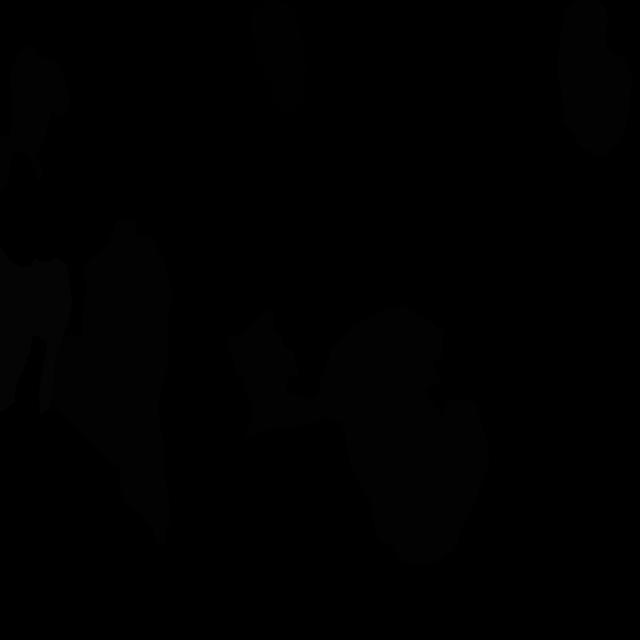cardboard: (319, 305, 490, 565), (49, 217, 173, 545), (225, 308, 328, 438), (557, 0, 633, 158), (0, 45, 71, 190)
rigid_plastic: (250, 1, 308, 119)
soft_plastic: (0, 244, 72, 414)
